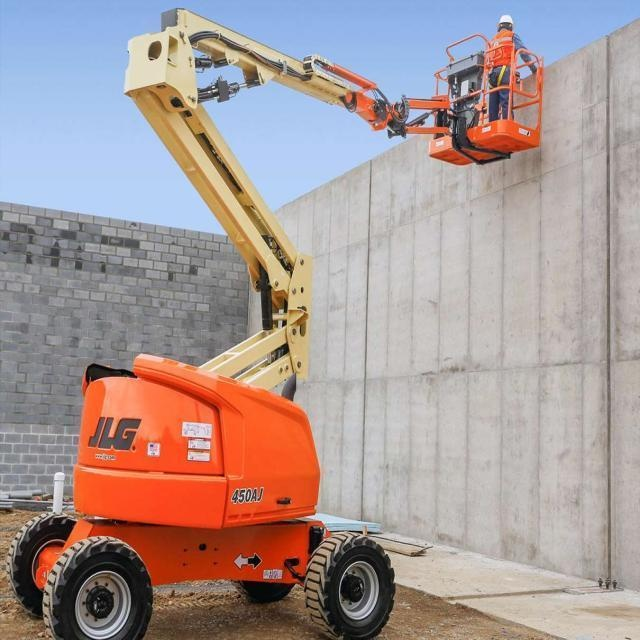Arnes_seguridad: (488, 31, 513, 91)
